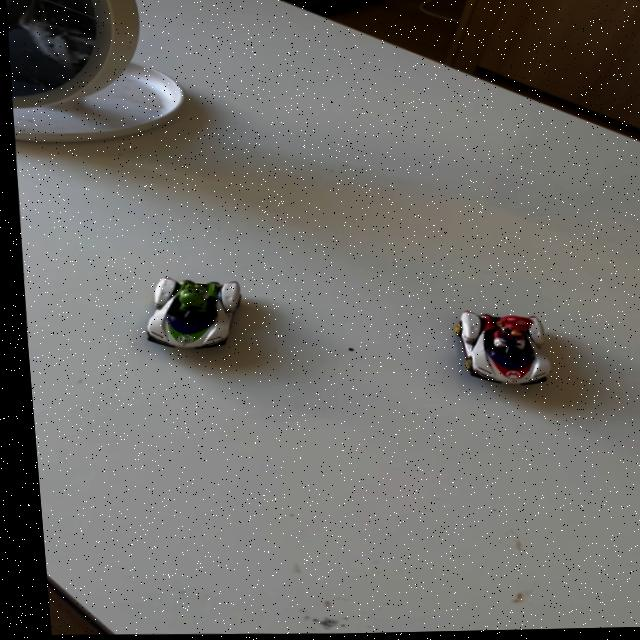mario: (438, 306, 560, 398)
yoshi: (120, 266, 252, 358)
